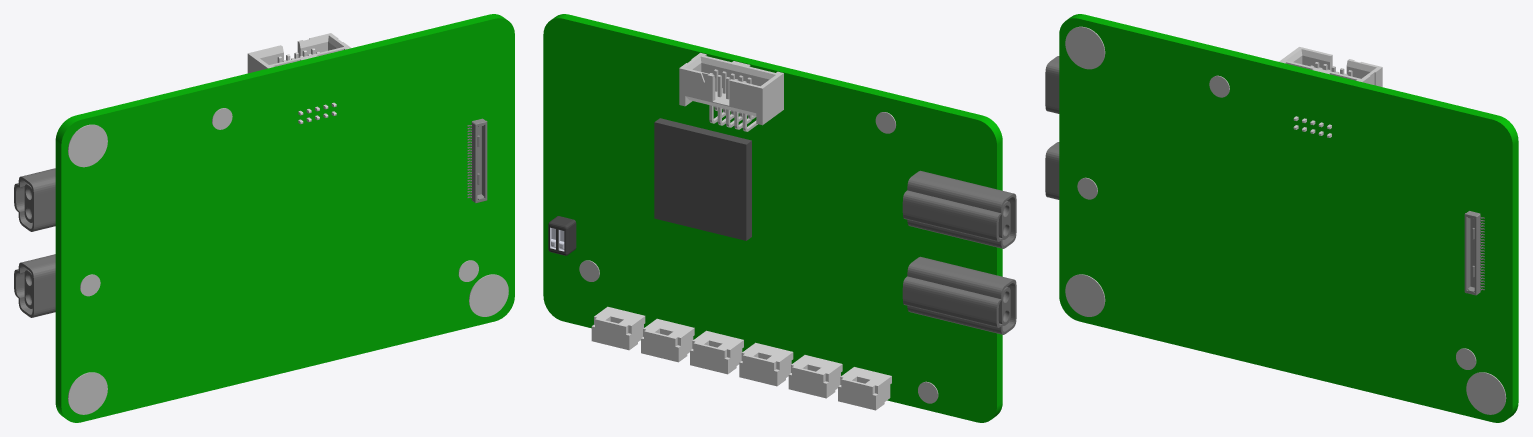
The model's file is e40e548a-navq95v2_t1s.glb.
3 renders of one model, left to right at view 1: azimuth 30°, elevation 25°; view 2: azimuth 150°, elevation 25°; view 3: azimuth 330°, elevation 25°, orthographic.
Parts seen in each view (by area): view 1: pcb, port1, port2, cortex_debug; view 2: pcb, sja1110a, port2, port1, cortex_debug, port10, port9, port8, port7, port6, port5, sw_boot_opt; view 3: pcb, cortex_debug, port1, port2.
Part boxes in pixels (x1=…): pcb: x1=55, y1=14, x2=514, y2=422; port1: x1=14, y1=254, x2=55, y2=317; port2: x1=14, y1=168, x2=55, y2=231; cortex_debug: x1=247, y1=33, x2=351, y2=124; pcb: x1=543, y1=14, x2=1002, y2=422; sja1110a: x1=654, y1=118, x2=751, y2=240; port2: x1=902, y1=170, x2=1016, y2=248; port1: x1=902, y1=256, x2=1016, y2=334; cortex_debug: x1=679, y1=53, x2=783, y2=131; port10: x1=838, y1=367, x2=891, y2=410; port9: x1=788, y1=355, x2=842, y2=398; port8: x1=739, y1=342, x2=793, y2=386; port7: x1=690, y1=330, x2=743, y2=374; port6: x1=641, y1=318, x2=694, y2=362; port5: x1=591, y1=306, x2=645, y2=350; sw_boot_opt: x1=548, y1=216, x2=576, y2=255; pcb: x1=1059, y1=14, x2=1518, y2=422; cortex_debug: x1=1279, y1=47, x2=1382, y2=137; port1: x1=1045, y1=142, x2=1059, y2=199; port2: x1=1045, y1=56, x2=1059, y2=113.
Size of the model in its own units: 0.0721 by 0.044 by 0.00825.
